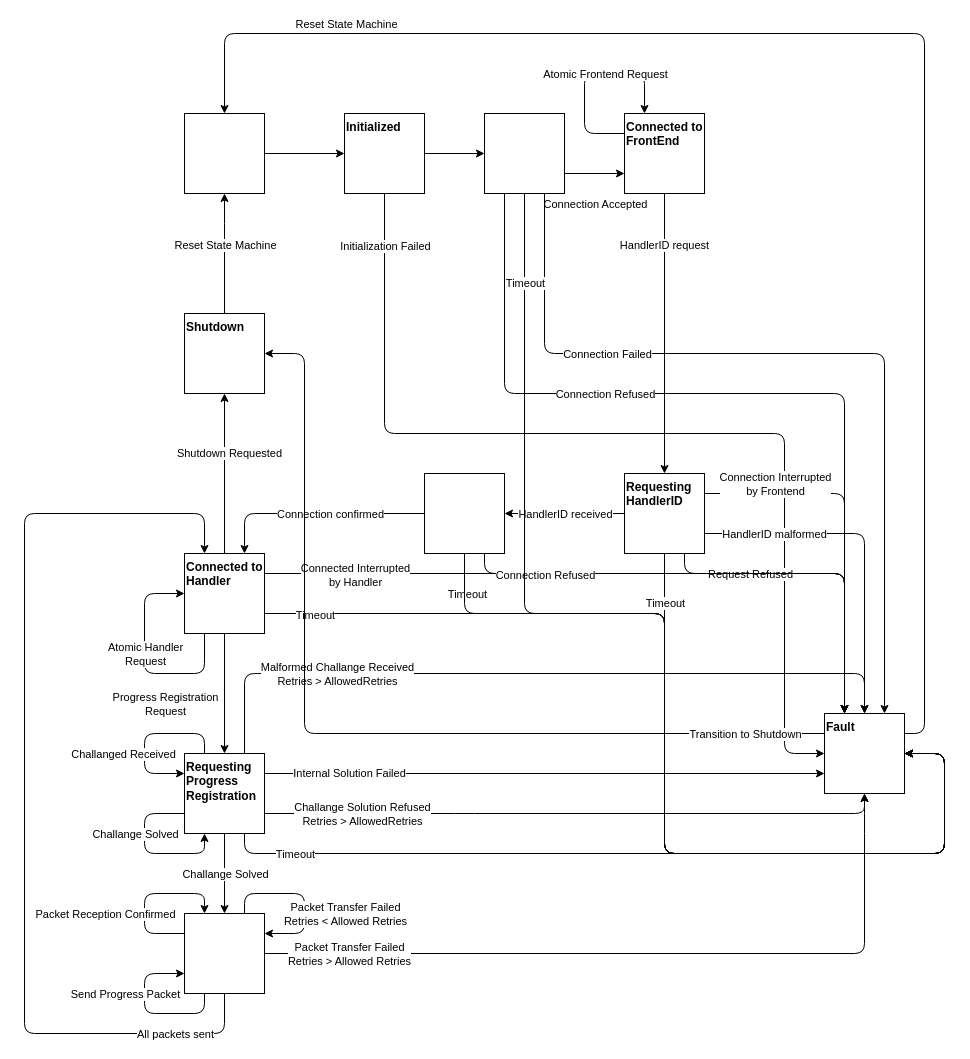
The diagram is 970 pixels wide and 1059 high, and some of its shapes have lost their labels. Here are the shapes that lost their labels. From the top down, the centre of each, then its label:
At [224,153]: "Uninitialized".
At [524,153]: "Connecting to Frontend".
At [464,513]: "Connecting to Handler".
At [224,953]: "Sending Progress".
